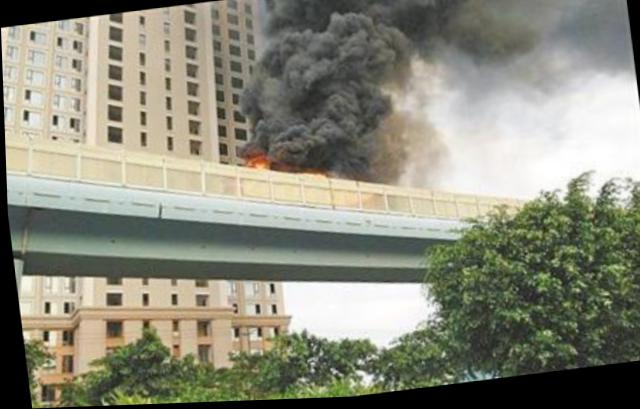fire: (242, 150, 273, 172)
